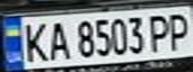0: (109, 16, 130, 56)
3: (124, 13, 148, 55)
5: (93, 16, 115, 57)
8: (72, 17, 93, 59)
A: (42, 18, 72, 62)
K: (18, 19, 51, 64)
P: (163, 10, 193, 52), (145, 11, 175, 52)
